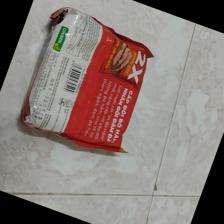3mien: (18, 7, 154, 154)
